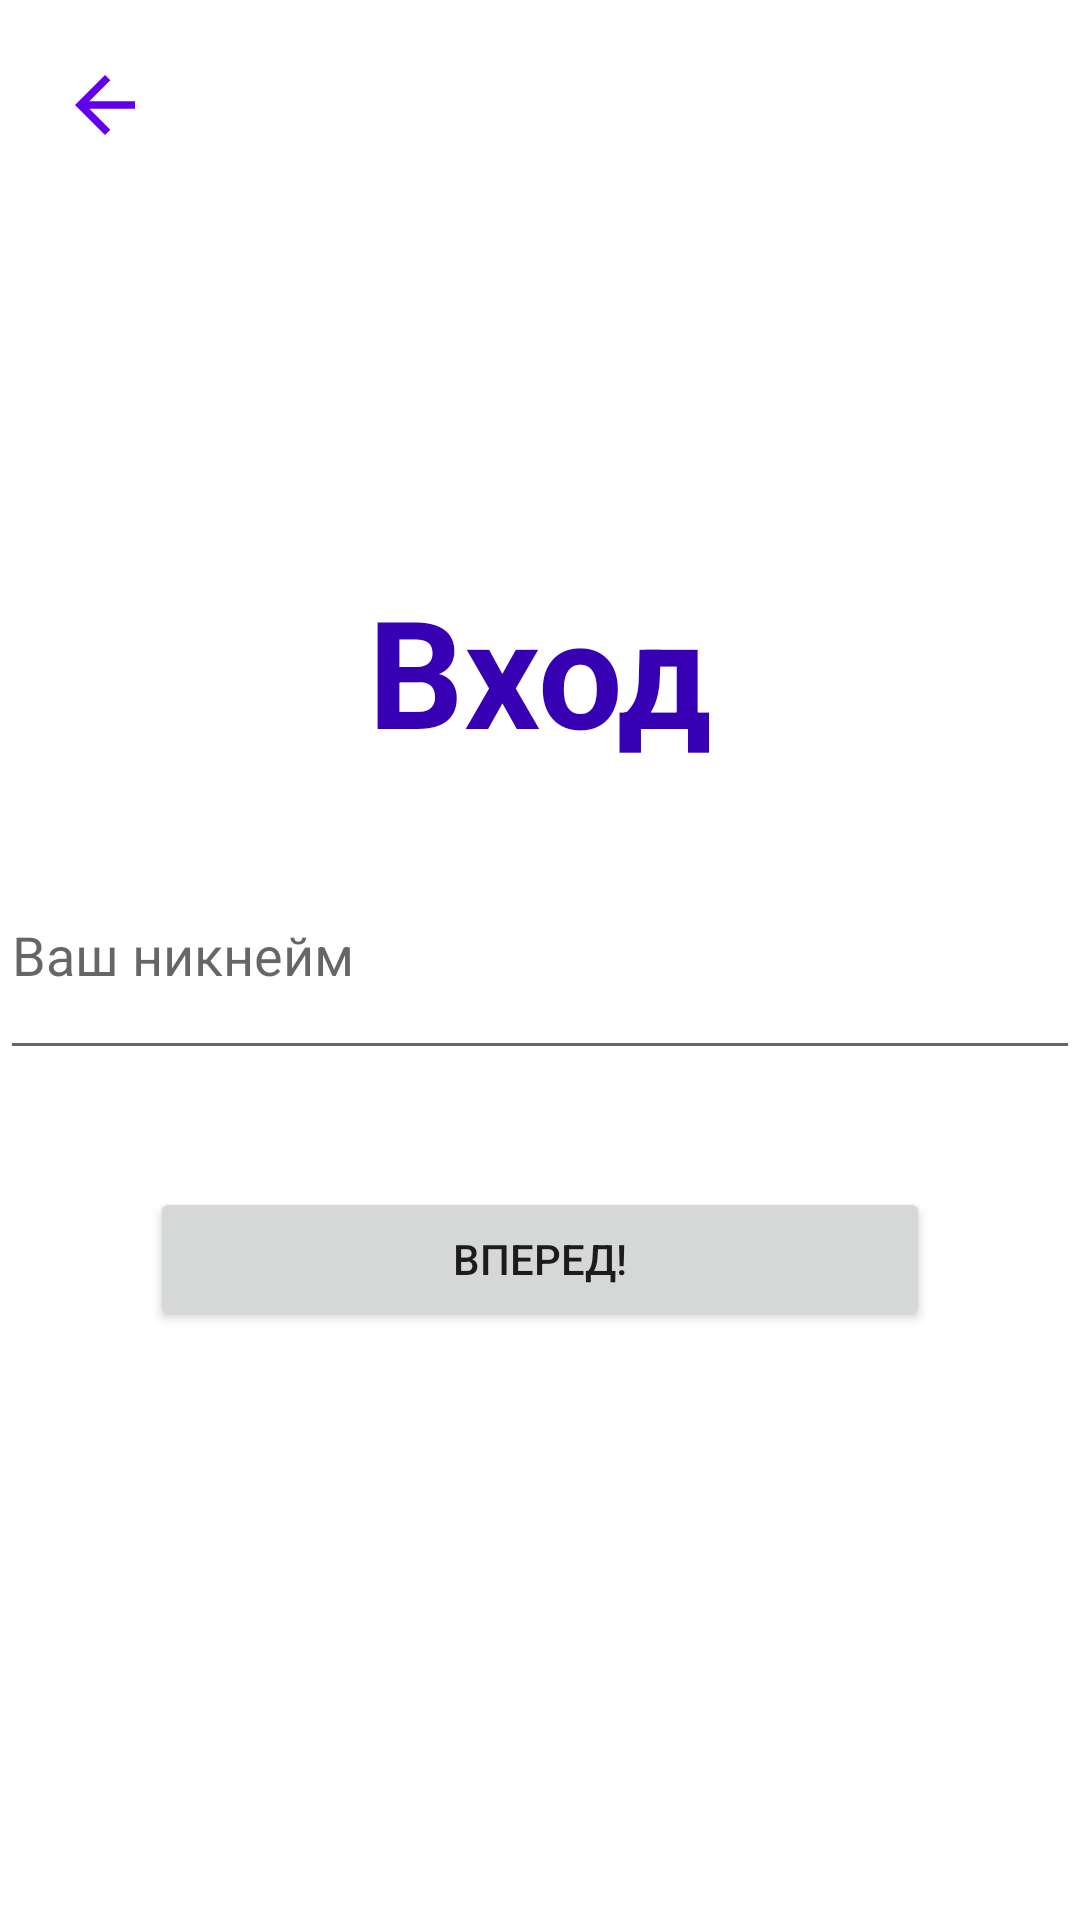

Icons on this 1080w x 1920h Android screen, each with its box as box=[x1, y1, x2, y2]:
back: box=[75, 75, 135, 135]
